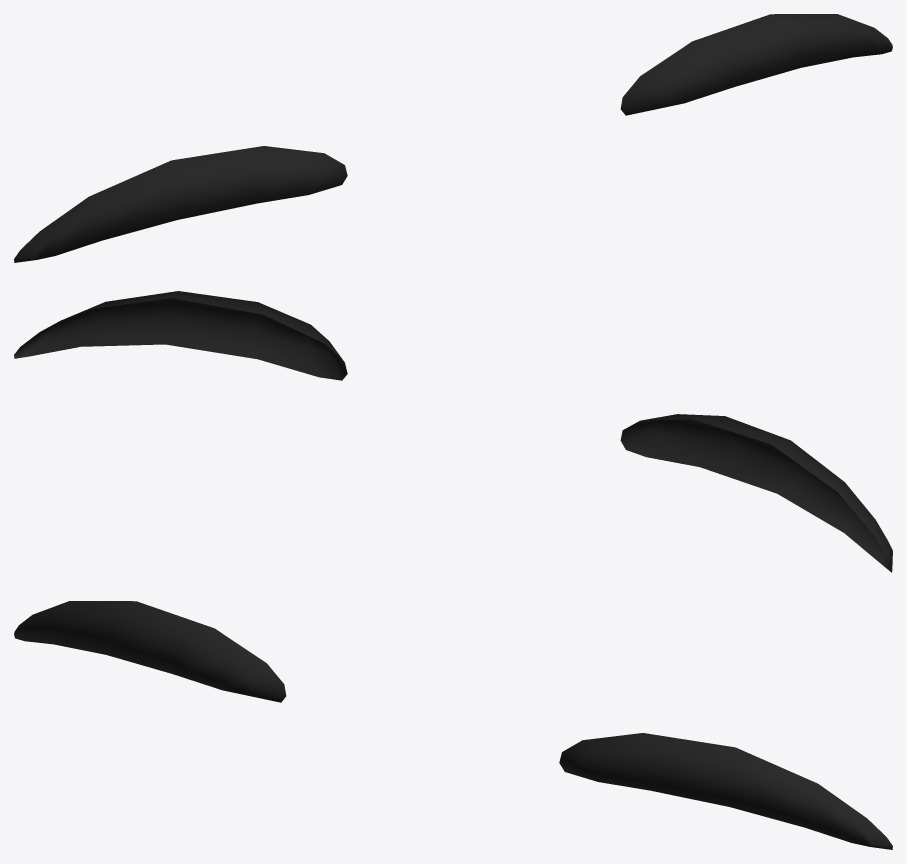
File: eyebrow_4.fbx
3 views of the same model, one above another, from view 1: azimuth 30°, elevation 25°; view 2: azimuth 150°, elevation 25°; view 3: azimuth 330°, elevation 25° (orthographic).
Parts seen in each view (by area): view 1: eyebrow_4; view 2: eyebrow_4; view 3: eyebrow_4.
Part boxes in pixels (x1,y1,x2,y2): eyebrow_4: (14, 14, 892, 262); eyebrow_4: (14, 291, 892, 572); eyebrow_4: (14, 601, 892, 849).
Size of the model in its own units: 0.905 by 0.0805 by 0.0779.
